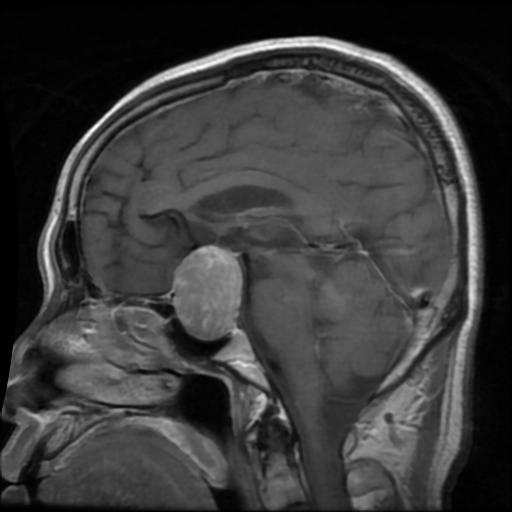Pituirity_tumour: (170, 244, 241, 339)
